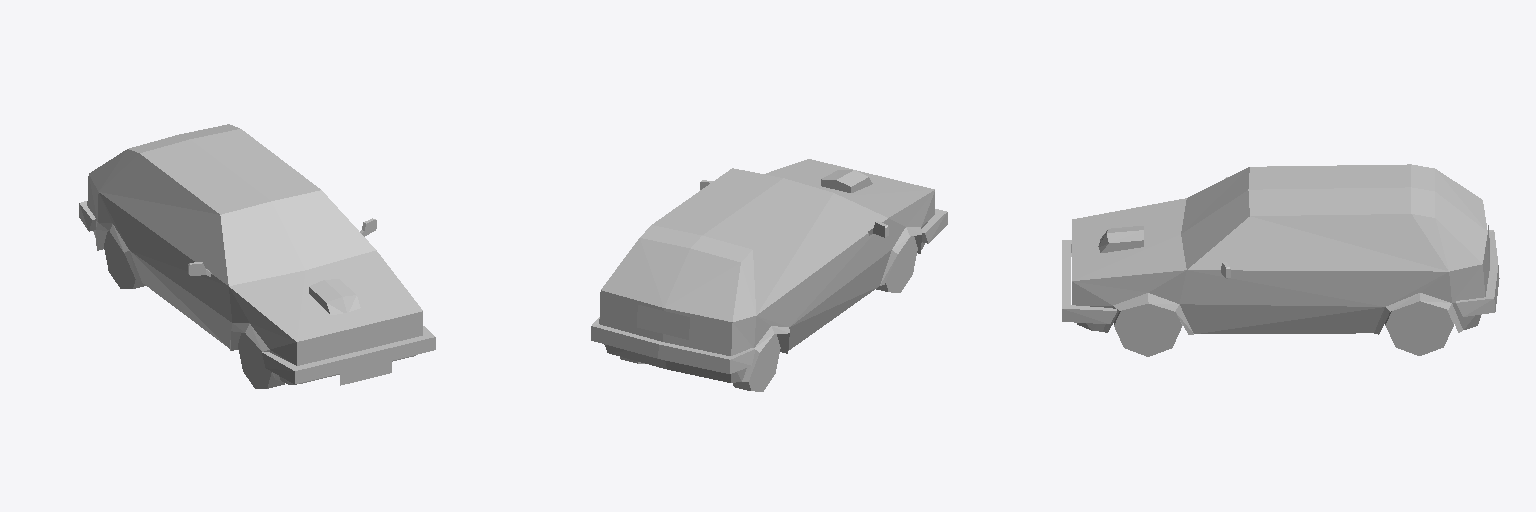
File: funcar_muscle.obj
3 renders of one model, left to right at view 1: azimuth 30°, elevation 25°; view 2: azimuth 150°, elevation 25°; view 3: azimuth 270°, elevation 25°, orthographic.
Visible parts, largest first — view 1: Car_Main_Cube, Muscle_Engine_Cube.004, Wheel.003_Cube.005, License_Plate_Front_Cube.008, Wheel_Cube.007; view 2: Car_Main_Cube, License_Plate_Back_Cube.010, Wheel_Cube.007, Wheel.003_Cube.005, Muscle_Engine_Cube.004; view 3: Car_Main_Cube, Wheel.002_Cube.006, Wheel.001_Cube.002, Muscle_Engine_Cube.004.
Part boxes in pixels (bbox=[...]): Car_Main_Cube: bbox=[79, 124, 435, 384]; Muscle_Engine_Cube.004: bbox=[309, 279, 360, 314]; Wheel.003_Cube.005: bbox=[238, 333, 284, 388]; License_Plate_Front_Cube.008: bbox=[340, 351, 391, 385]; Wheel_Cube.007: bbox=[104, 231, 145, 288]; Car_Main_Cube: bbox=[591, 159, 947, 382]; License_Plate_Back_Cube.010: bbox=[637, 305, 689, 339]; Wheel_Cube.007: bbox=[733, 334, 780, 391]; Wheel.003_Cube.005: bbox=[876, 236, 917, 292]; Muscle_Engine_Cube.004: bbox=[821, 170, 872, 192]; Car_Main_Cube: bbox=[1062, 164, 1499, 334]; Wheel.002_Cube.006: bbox=[1385, 301, 1453, 355]; Wheel.001_Cube.002: bbox=[1114, 304, 1182, 356]; Muscle_Engine_Cube.004: bbox=[1098, 226, 1143, 252].
Size of the model in its own units: 1.95 by 1.36 by 3.95.